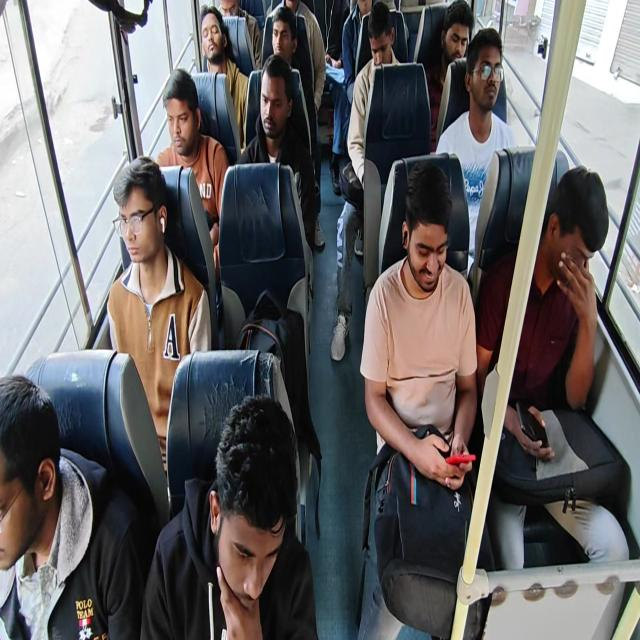person: (190, 379, 328, 640), (0, 380, 75, 607), (107, 152, 185, 331), (404, 153, 478, 307), (533, 164, 593, 289), (158, 65, 212, 180), (240, 57, 287, 156), (192, 14, 233, 100), (440, 4, 483, 81), (473, 44, 510, 127), (306, 0, 350, 69), (268, 16, 299, 84), (367, 22, 398, 74), (212, 0, 255, 25), (348, 0, 385, 19), (274, 0, 307, 16)
